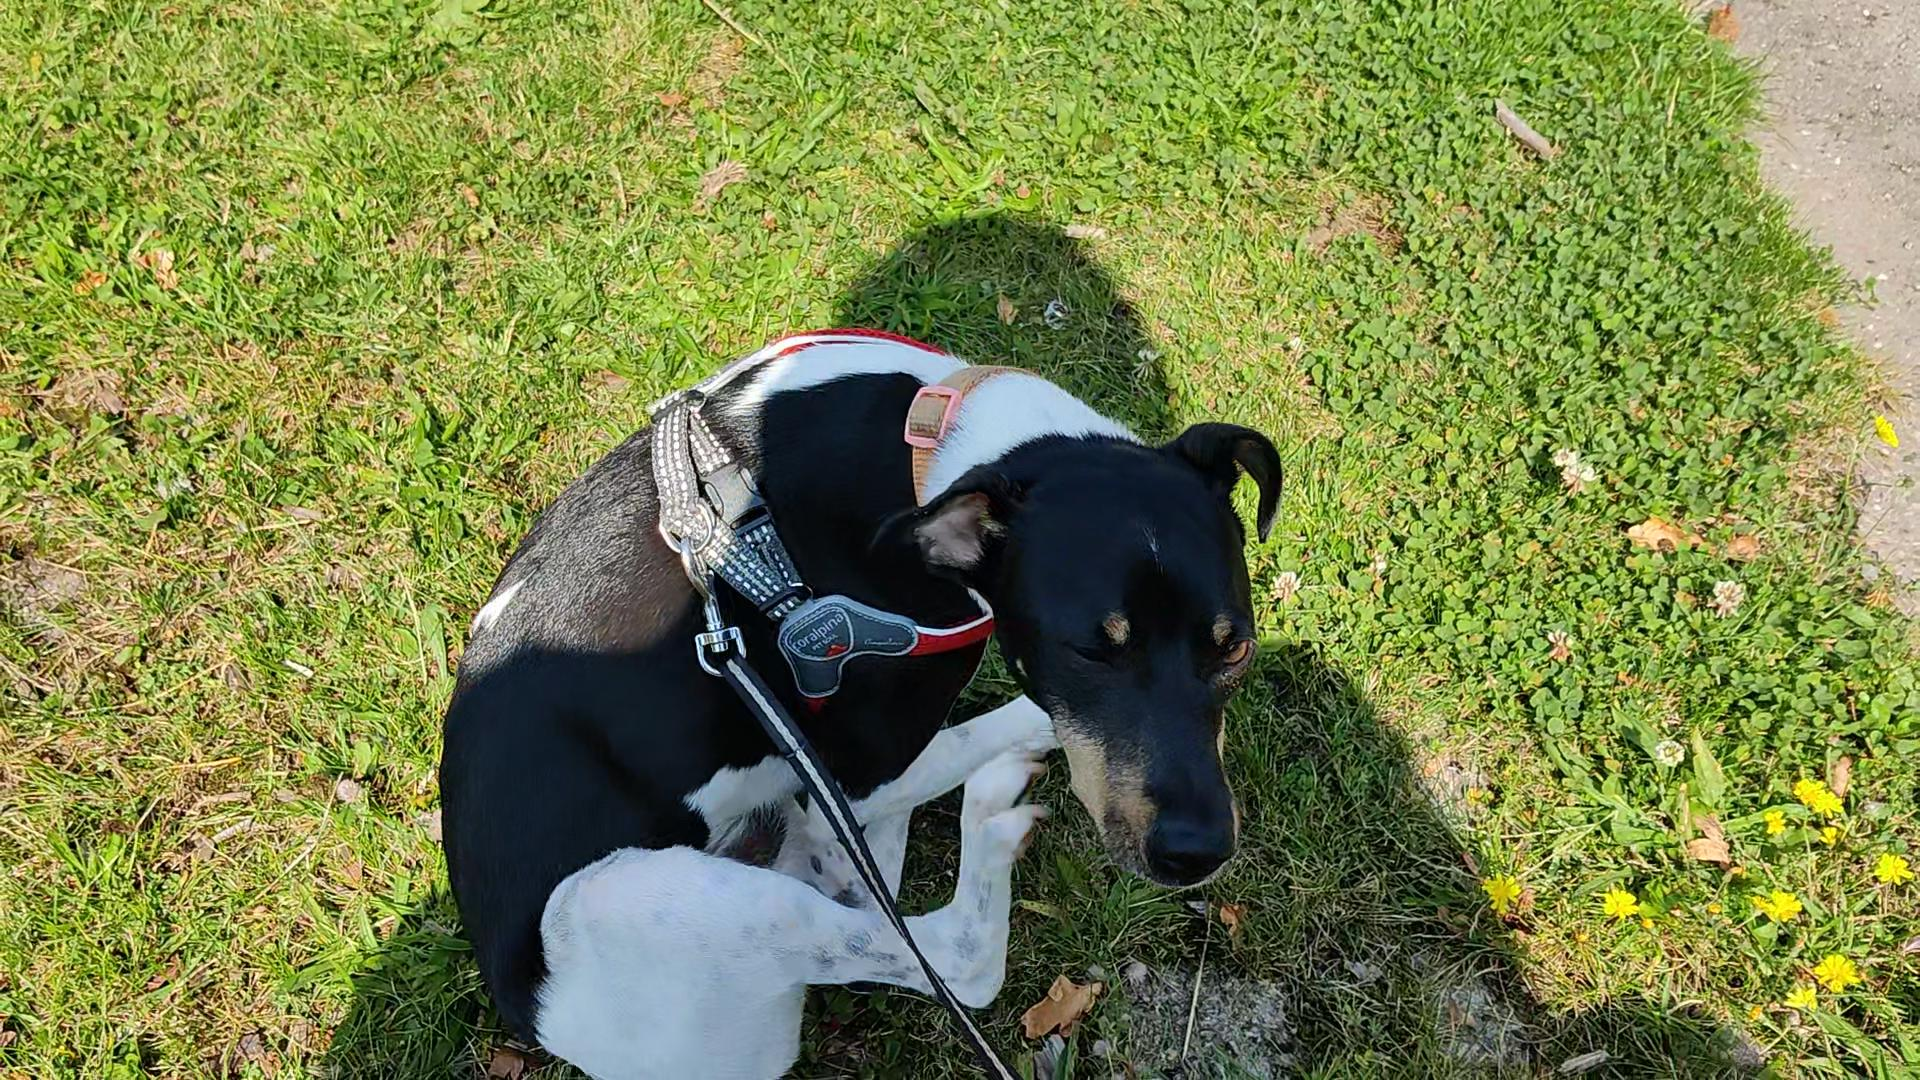Dog: (418, 284, 1305, 1079)
